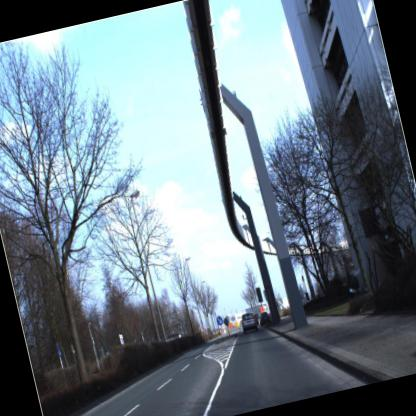mandatory: (215, 314, 224, 326)
